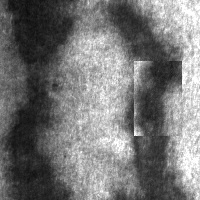patches: (113, 69, 190, 199), (4, 76, 65, 200), (109, 1, 174, 80), (6, 1, 76, 67), (134, 61, 182, 136)
